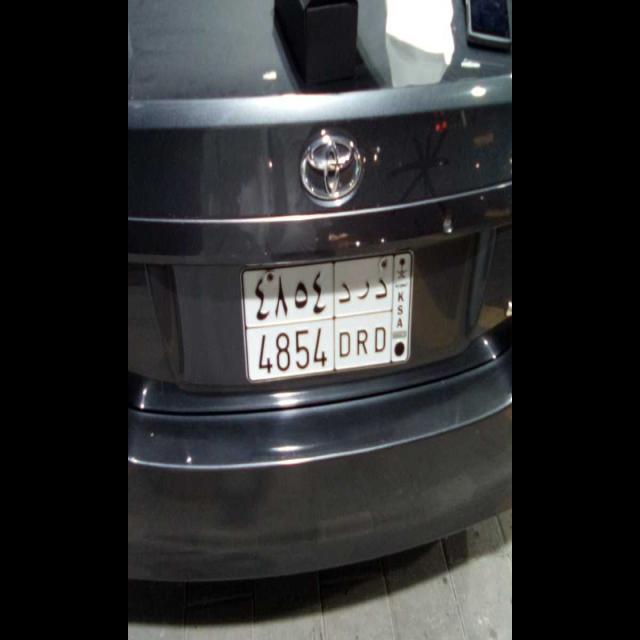license_plate: (245, 323, 397, 386)
